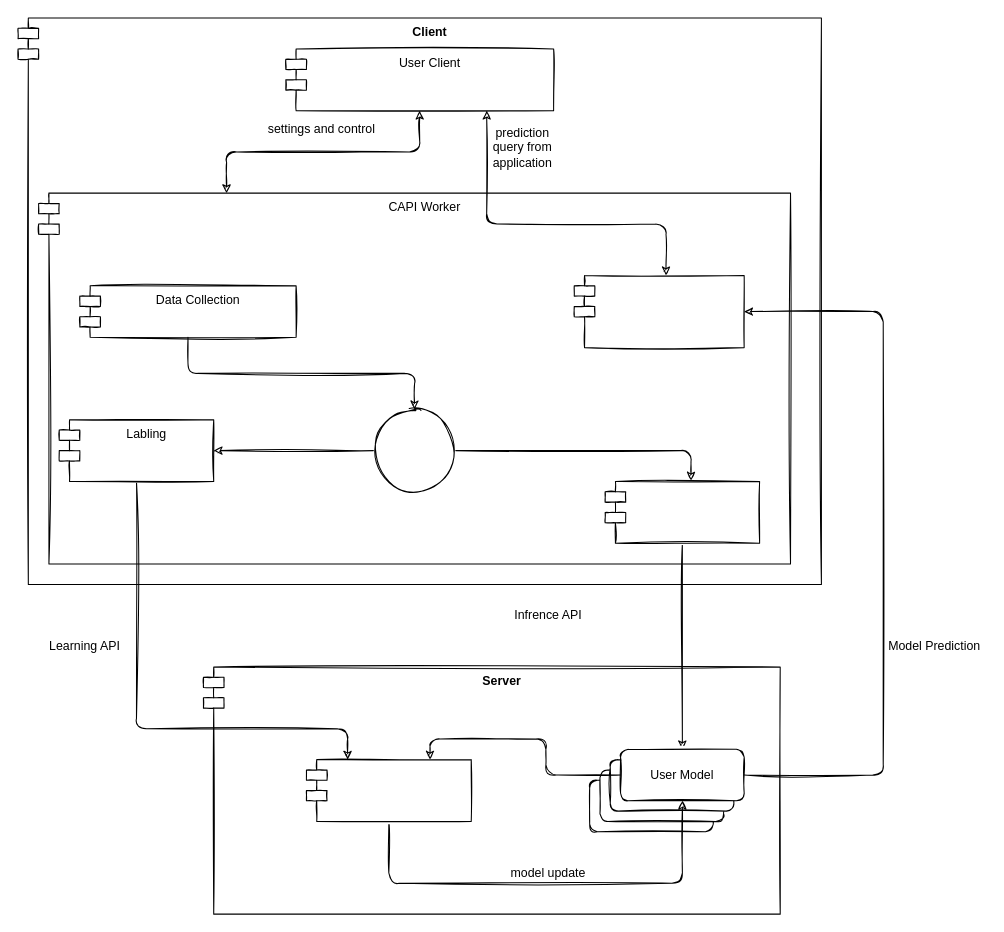
This 1004x932 diagram has some shape labels left out. The centre of each missing label's shape, as x and y in pixels:
Augmentation: point (682, 511)
Learning Gate: point (414, 450)
Learning Module: point (388, 790)
Prediction DB: point (658, 311)
